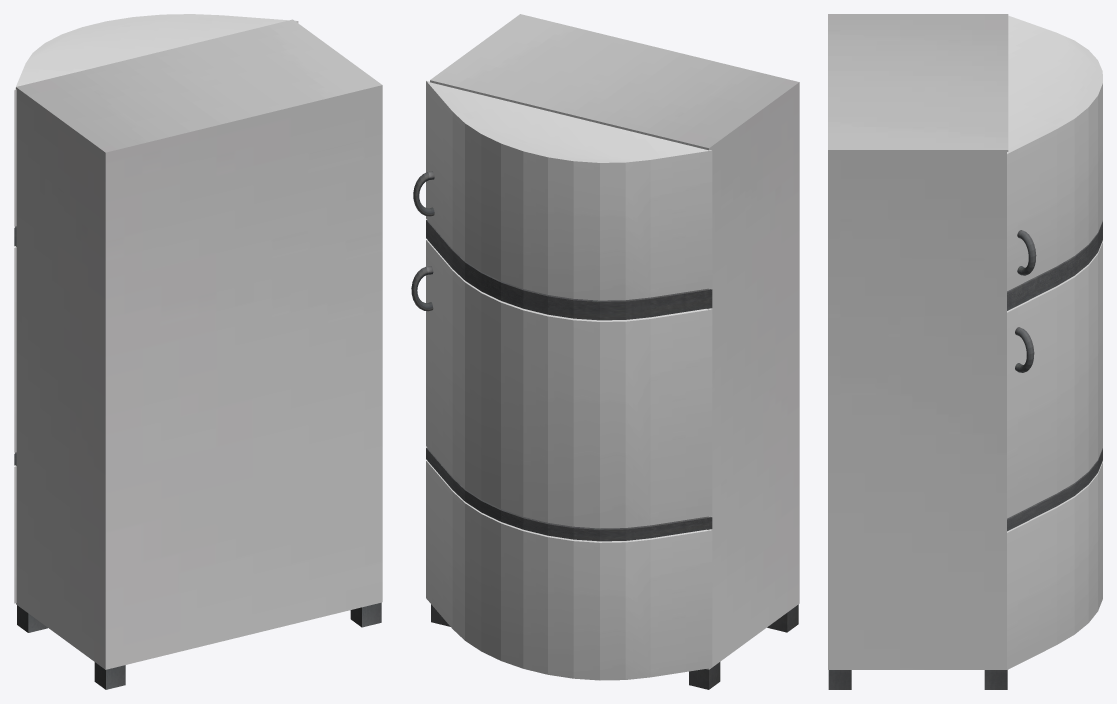
Rendered from refrg.obj.
The picture shows the model from 3 angles, left to right: view 1: azimuth 30°, elevation 25°; view 2: azimuth 150°, elevation 25°; view 3: azimuth 270°, elevation 25°; orthographic projection.
Visible parts, largest first — view 1: Cubo.005_Cubo.006; view 2: Cubo.005_Cubo.006; view 3: Cubo.005_Cubo.006.
Part boxes in pixels (bbox=[...]): Cubo.005_Cubo.006: bbox=[14, 14, 382, 689]; Cubo.005_Cubo.006: bbox=[411, 14, 799, 689]; Cubo.005_Cubo.006: bbox=[828, 14, 1102, 689].
Bounding box in the file's own units: 29.02 × 51.97 × 23.94.
